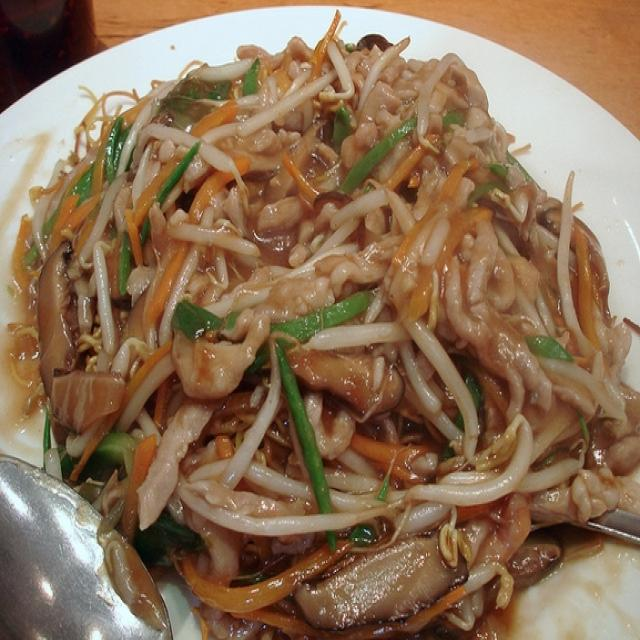面条主食: (20, 28, 623, 634)
